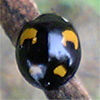Two_spots_mutant: (15, 13, 81, 90)
